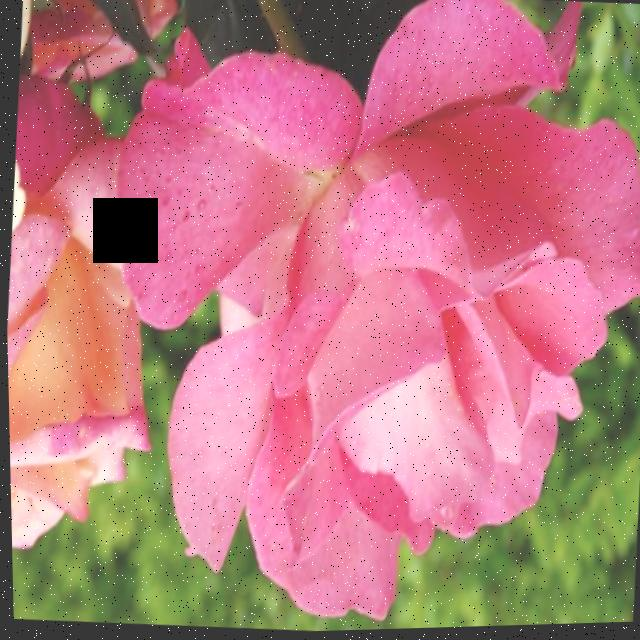rose: (94, 0, 640, 638)
